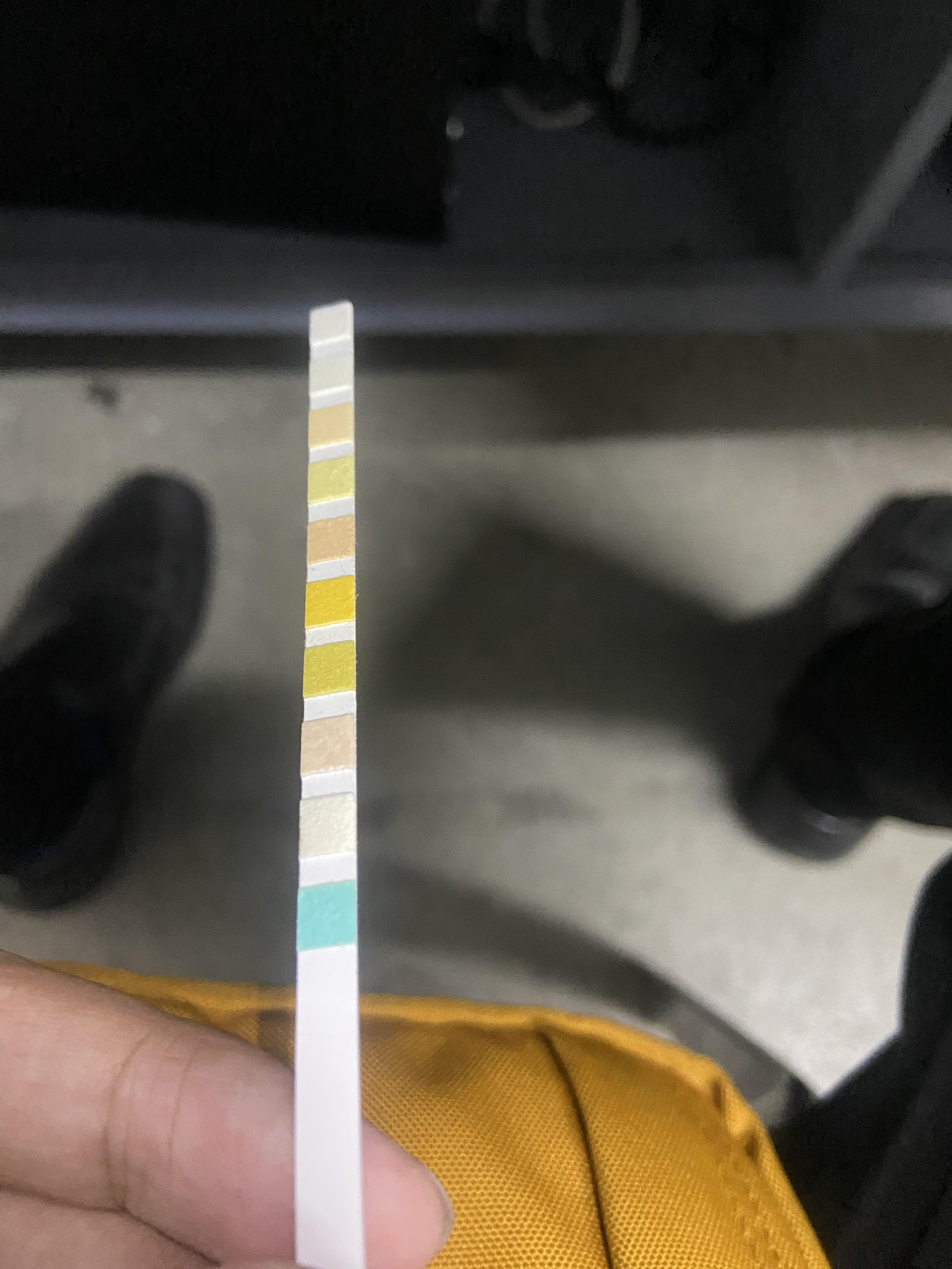Bilirubin: (300, 801, 357, 850)
Blood: (306, 584, 354, 620)
Glucose: (298, 889, 357, 943)
Ketone: (303, 723, 355, 765)
Leukocytes: (311, 313, 352, 338)
Nitrite: (310, 364, 353, 388)
Protein: (308, 465, 354, 495)
SpGravity: (305, 649, 355, 690)
Urobilinogen: (309, 412, 354, 440)
pH: (308, 525, 355, 556)
strip: (295, 301, 364, 1248)
